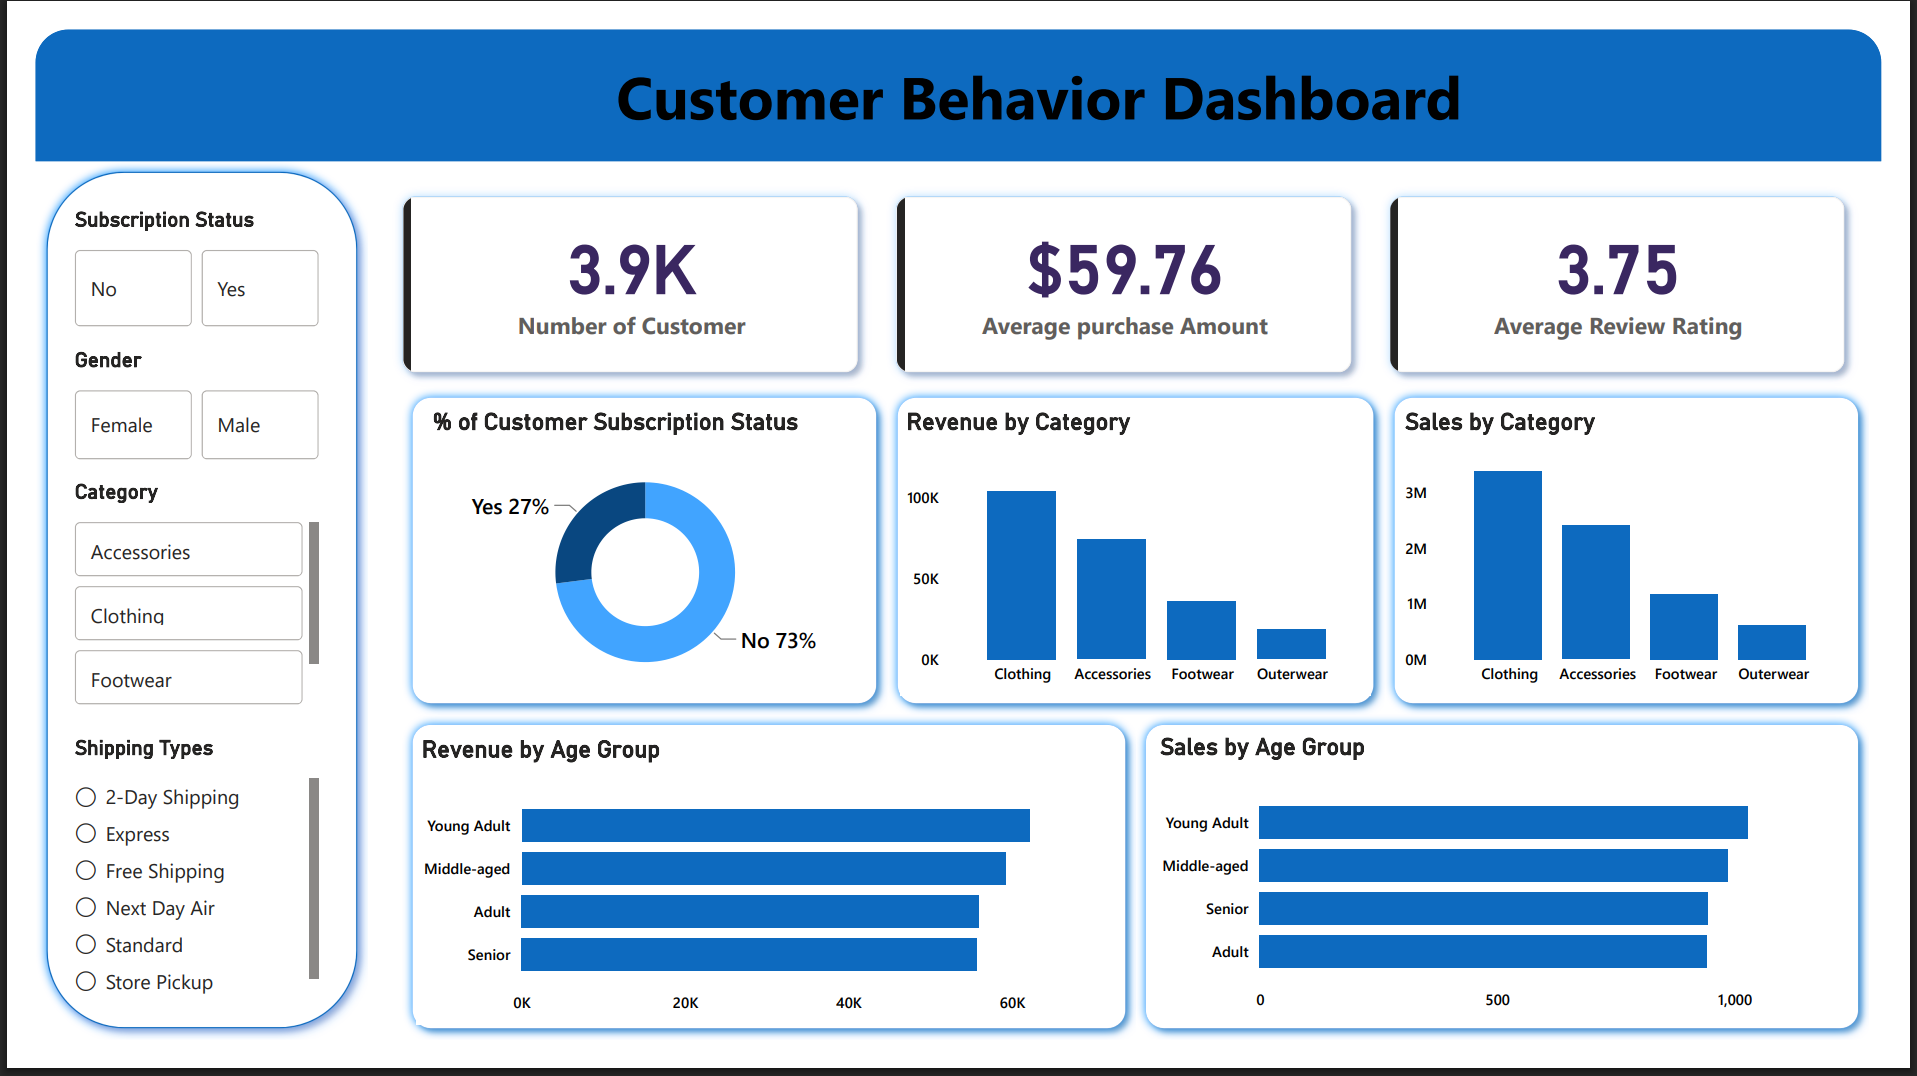

This screenshot's page, from the dashboard's own definition file:
{"tool":"powerbi","page":{"name":"Page 1","canvas":[1500,820],"ordinal":0},"visuals":[{"type":"cardVisual","fields":{"Data":["public customer.Number of Customer","public customer.Average purchase Amount","public customer.Average Review Rating"]},"box":[269.8,107.5,1229.8,199.4],"z":0},{"type":"shape","box":[0,0,1499.6,107.5],"z":1000},{"type":"textbox","box":[467.1,15.7,716.7,76.2],"z":2000},{"type":"shape","box":[298.5,290.1,394,266.3],"z":3000},{"type":"donutChart","title":"% of Customer Subscription Status","fields":{"Category":["public customer.subscription_status"],"Y":["CountNonNull(public customer.customer_id)"]},"box":[317.6,306.8,355.8,234],"z":4000},{"type":"shape","box":[692.5,290.1,403.6,266.3],"z":5000},{"type":"shape","box":[1096,290.1,394,266.3],"z":6000},{"type":"clusteredColumnChart","title":"Revenue by Category","fields":{"Category":["public customer.category"],"Y":["Sum(public customer.purchase_amount)"]},"box":[703.2,306.8,382.1,234],"z":7000},{"type":"clusteredColumnChart","title":"Sales by Category","fields":{"Category":["public customer.category"],"Y":["Sum(public customer.customer_id)"]},"box":[1108,306.8,366.5,234],"z":8000},{"type":"shape","box":[0,107.5,269.8,712.8],"z":9000},{"type":"advancedSlicerVisual","title":"Subscription Status","fields":{"Values":["public customer.subscription_status"]},"box":[27.5,144.5,207.7,102.7],"z":10000},{"type":"advancedSlicerVisual","title":"Gender","fields":{"Values":["public customer.gender"]},"box":[27.5,257.9,207.7,96.7],"z":11000},{"type":"advancedSlicerVisual","title":"Category","fields":{"Values":["public customer.category"]},"box":[27.5,365.3,207.7,191],"z":12000},{"type":"listSlicer","title":"Shipping Types","fields":{"Values":["public customer.shipping_type"]},"box":[27.5,573.1,207.7,216.1],"z":13000},{"type":"shape","box":[298.5,556.4,595.8,263.9],"z":14000},{"type":"shape","box":[894.3,556.4,595.8,263.9],"z":15000},{"type":"clusteredBarChart","title":"Revenue by Age Group","fields":{"Category":["public customer.age_group"],"Y":["Sum(public customer.purchase_amount)"]},"box":[309.2,573.1,567.1,235.2],"z":16000},{"type":"clusteredBarChart","title":"Sales by Age Group","fields":{"Category":["public customer.age_group"],"Y":["CountNonNull(public customer.customer_id)"]},"box":[908.6,570.7,568.3,235.2],"z":17000}]}

Visuals, with their boxes in screenshot pixels (x1, y1, x2, y2), scaled from the page's 1500x820 canvas onto the 1917x1076 screenshot:
cardVisual - public customer.Number of Customer x public customer.Average purchase Amount: l=345, t=141, r=1916, b=403
shape: l=0, t=0, r=1916, b=141
textbox: l=597, t=21, r=1513, b=121
shape: l=381, t=381, r=885, b=730
"% of Customer Subscription Status" donutChart: l=406, t=403, r=861, b=710
shape: l=885, t=381, r=1401, b=730
shape: l=1401, t=381, r=1904, b=730
"Revenue by Category" clusteredColumnChart: l=899, t=403, r=1387, b=710
"Sales by Category" clusteredColumnChart: l=1416, t=403, r=1884, b=710
shape: l=0, t=141, r=345, b=1075
"Subscription Status" advancedSlicerVisual: l=35, t=190, r=301, b=324
"Gender" advancedSlicerVisual: l=35, t=338, r=301, b=465
"Category" advancedSlicerVisual: l=35, t=479, r=301, b=730
"Shipping Types" listSlicer: l=35, t=752, r=301, b=1036
shape: l=381, t=730, r=1143, b=1075
shape: l=1143, t=730, r=1904, b=1075
"Revenue by Age Group" clusteredBarChart: l=395, t=752, r=1120, b=1061
"Sales by Age Group" clusteredBarChart: l=1161, t=749, r=1887, b=1057
